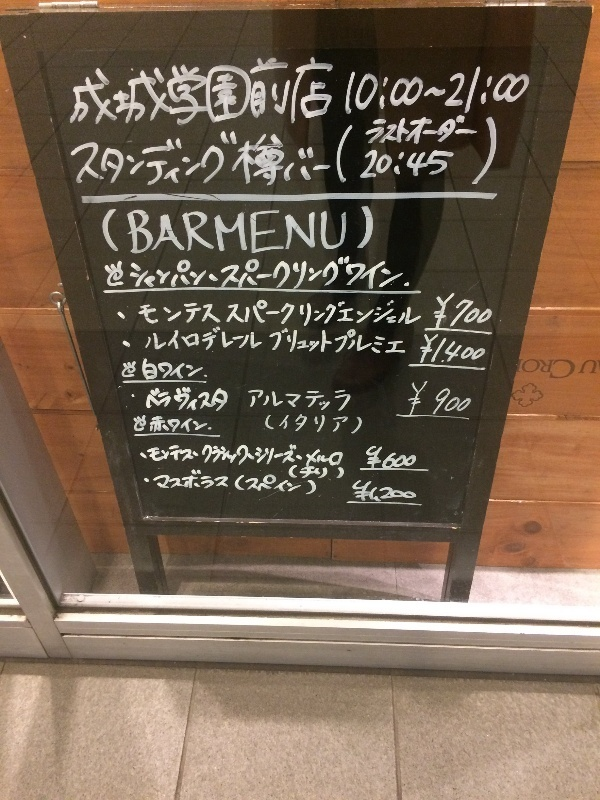text: (321, 52, 337, 127), (81, 52, 96, 127), (97, 52, 112, 127), (113, 52, 128, 127), (129, 52, 144, 127), (145, 52, 160, 127), (161, 52, 176, 127), (177, 52, 192, 127), (193, 52, 208, 127), (209, 52, 224, 127), (225, 52, 240, 127), (241, 52, 256, 127), (257, 52, 272, 127), (273, 52, 288, 127), (289, 52, 304, 127), (305, 52, 320, 127), (81, 127, 96, 187), (97, 127, 112, 187), (113, 127, 128, 187), (129, 127, 144, 187), (145, 127, 160, 187), (161, 127, 176, 187), (177, 127, 192, 187), (193, 127, 208, 187), (209, 127, 224, 187), (225, 127, 240, 187), (241, 127, 256, 187), (257, 127, 272, 187), (273, 127, 288, 187), (289, 127, 304, 187), (305, 127, 320, 187), (353, 67, 368, 117), (369, 67, 384, 117), (385, 67, 400, 117), (401, 67, 416, 117), (417, 67, 432, 117), (433, 67, 448, 117), (449, 67, 464, 117), (465, 67, 480, 117), (481, 67, 496, 117), (497, 67, 512, 117), (513, 67, 528, 117), (113, 206, 128, 254), (129, 206, 144, 254), (145, 206, 160, 254), (161, 206, 176, 254), (177, 206, 192, 254), (193, 206, 208, 254), (209, 206, 224, 254), (225, 206, 240, 254), (241, 206, 256, 254), (257, 206, 272, 254), (273, 206, 288, 254), (289, 206, 304, 254), (305, 206, 320, 254), (321, 206, 336, 254), (337, 206, 352, 254), (353, 206, 368, 254), (321, 127, 331, 187), (71, 127, 80, 187), (129, 258, 144, 292), (145, 258, 160, 292), (161, 258, 176, 292), (177, 258, 192, 292), (193, 258, 208, 292), (209, 258, 224, 292), (225, 258, 240, 292), (241, 258, 256, 292), (257, 258, 272, 292), (273, 258, 288, 292), (289, 258, 304, 292), (305, 258, 320, 292), (321, 258, 336, 292), (337, 258, 352, 292), (353, 258, 368, 292), (369, 258, 384, 292), (385, 258, 400, 292), (465, 296, 480, 330), (369, 150, 384, 181), (385, 150, 400, 181), (401, 150, 416, 181), (417, 150, 432, 181), (433, 150, 448, 181), (449, 386, 464, 417), (369, 115, 384, 145), (385, 115, 400, 145), (401, 115, 416, 145), (417, 115, 432, 145), (433, 115, 448, 145), (449, 115, 464, 145), (145, 300, 160, 330), (161, 300, 176, 330), (177, 300, 192, 330), (193, 300, 208, 330), (209, 300, 224, 330), (225, 300, 240, 330), (241, 300, 256, 330), (257, 300, 272, 330), (273, 300, 288, 330), (289, 300, 304, 330), (305, 300, 320, 330), (321, 300, 336, 330), (337, 300, 352, 330), (353, 300, 368, 330), (369, 300, 384, 330), (385, 300, 400, 330), (401, 300, 416, 330), (161, 386, 176, 415), (177, 386, 192, 415), (193, 386, 208, 415), (209, 386, 224, 415), (449, 337, 464, 366), (465, 337, 480, 366), (103, 206, 112, 254), (145, 328, 160, 356), (161, 328, 176, 356), (177, 328, 192, 356), (193, 328, 208, 356), (209, 328, 224, 356), (225, 328, 240, 356), (241, 328, 256, 356), (257, 328, 272, 356), (273, 328, 288, 356), (289, 328, 304, 356), (305, 328, 320, 356), (321, 328, 336, 356), (337, 328, 352, 356), (353, 328, 368, 356), (369, 328, 384, 356), (385, 328, 400, 356), (481, 296, 493, 330), (465, 115, 478, 145), (193, 357, 209, 381), (75, 52, 80, 127), (401, 258, 412, 292), (145, 357, 160, 381), (161, 357, 176, 381), (177, 357, 192, 381), (241, 474, 256, 498), (257, 474, 272, 498), (273, 474, 288, 498), (289, 474, 304, 498), (148, 386, 160, 415), (161, 444, 176, 467), (177, 444, 192, 467), (193, 444, 208, 467), (209, 444, 224, 467), (225, 444, 240, 467), (241, 444, 256, 467), (257, 444, 272, 467), (273, 444, 288, 467), (289, 444, 304, 467), (305, 444, 320, 467), (321, 444, 336, 467), (437, 386, 448, 417), (257, 390, 272, 412), (273, 390, 288, 412), (289, 390, 304, 412), (305, 390, 320, 412), (321, 390, 336, 412), (337, 390, 352, 412), (273, 413, 288, 435), (289, 413, 304, 435), (305, 413, 320, 435), (321, 413, 336, 435), (337, 413, 352, 435), (161, 470, 176, 492), (177, 470, 192, 492), (193, 470, 208, 492), (209, 470, 224, 492), (305, 474, 318, 498), (438, 337, 448, 366), (401, 450, 417, 468), (148, 444, 160, 467), (161, 416, 176, 434), (177, 416, 192, 434), (193, 416, 208, 434), (385, 450, 400, 468), (305, 465, 320, 482), (321, 465, 336, 482), (465, 386, 473, 417), (369, 206, 374, 254), (290, 465, 304, 482), (481, 337, 489, 366), (385, 486, 400, 501), (401, 486, 416, 501), (353, 413, 363, 435), (458, 296, 464, 330), (529, 67, 533, 117), (449, 150, 455, 181), (138, 300, 144, 330), (150, 416, 160, 434), (372, 486, 384, 501), (248, 390, 256, 412), (401, 328, 407, 356), (337, 444, 344, 467), (153, 470, 160, 492), (225, 470, 232, 492), (225, 386, 230, 415), (337, 465, 345, 482), (417, 300, 421, 330), (235, 474, 240, 498), (267, 413, 272, 435), (350, 67, 352, 117), (365, 150, 368, 181), (209, 416, 214, 434), (142, 357, 144, 381), (417, 486, 419, 501)
